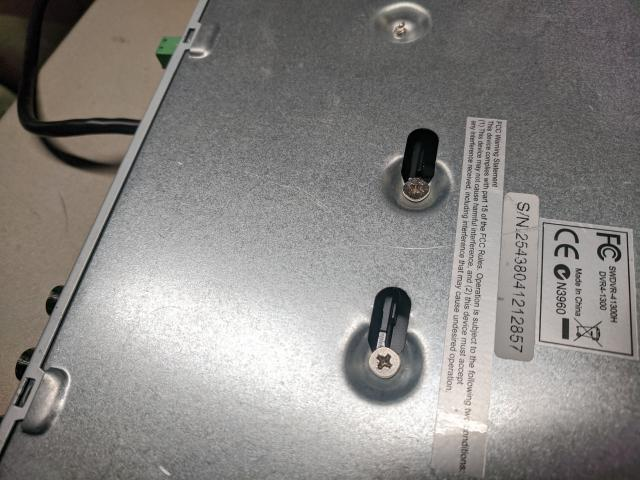CRS: (369, 344, 401, 378), (402, 177, 432, 206)
